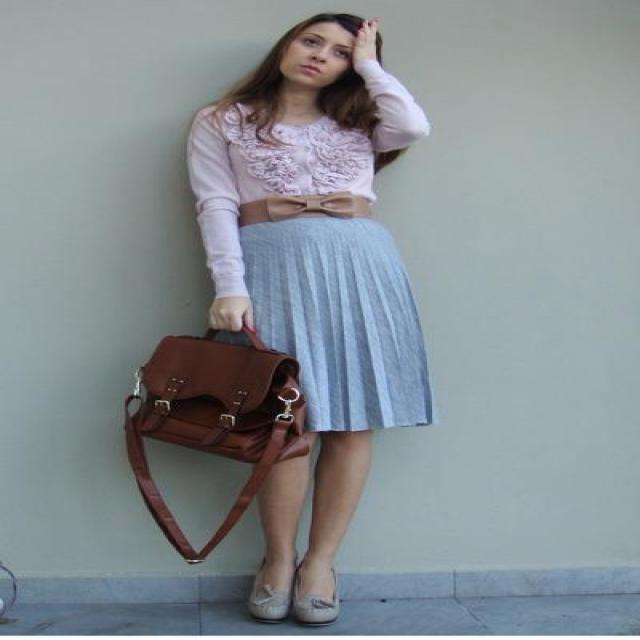bag: (112, 320, 318, 559)
shirt: (171, 64, 429, 293)
shoe: (219, 565, 341, 625)
skirt: (237, 217, 429, 434)
